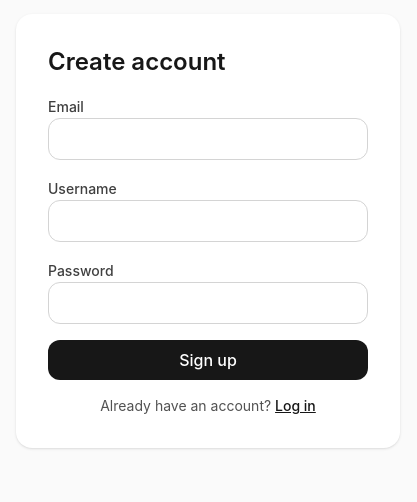
Test: SignupPage validation › shows errors for empty fields
The image size is (417, 502).
Click the button "Sign up".
click(208, 360)  # box [48,340,368,380]
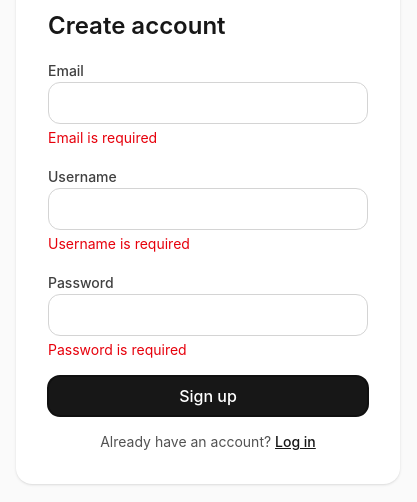
Check: the text "Email is required" is shown, box [48,129,157,146]
Check: the text "Username is required" is shown, box [48,235,190,252]
Check: the text "Password is required" is shown, box [48,341,187,358]
